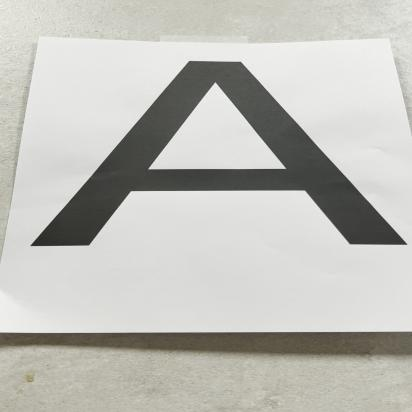seat: (38, 51, 410, 257)
